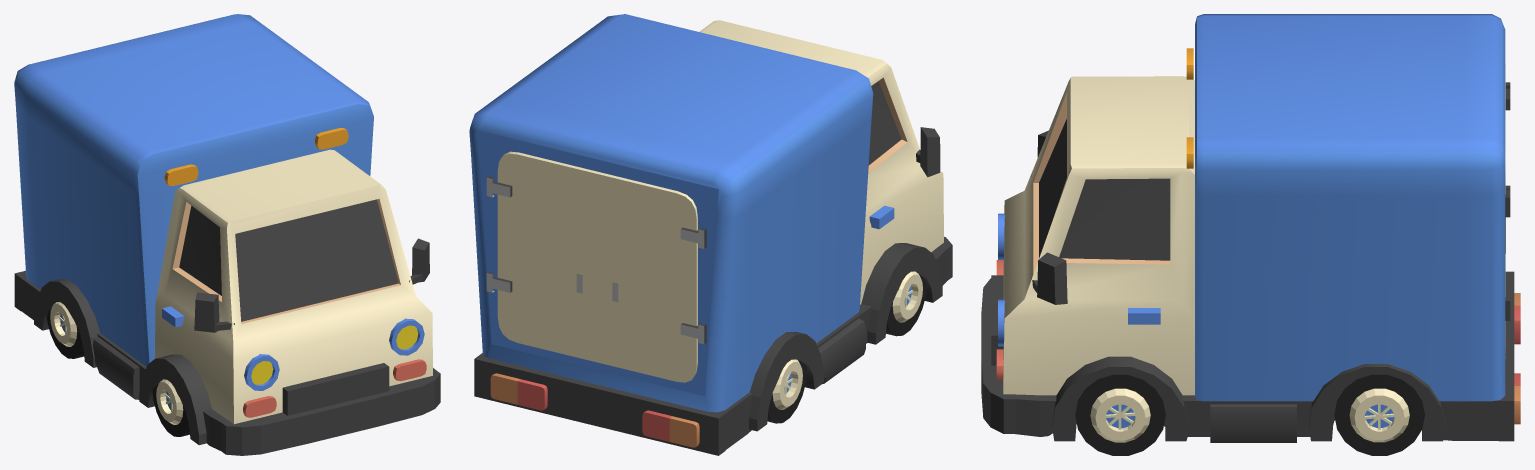
The model's file is Blue_Small_Truck.fbx.
3 views of the same model, side by side, from view 1: azimuth 30°, elevation 25°; view 2: azimuth 150°, elevation 25°; view 3: azimuth 270°, elevation 25° (orthographic). The views are drawn at different scales.
Parts seen in each view (by area): view 1: Blue_Small_Truck, Blue_Small_Truck_Wheel, Blue_Small_Truck_Wheel2; view 2: Blue_Small_Truck, Small_Left_Door001, Small_Right_Door001, Blue_Small_Truck_Wheel, Blue_Small_Truck_Wheel2; view 3: Blue_Small_Truck, Blue_Small_Truck_Wheel, Blue_Small_Truck_Wheel2.
Boxes of the visible parts, x1,y1,x2,y2 form: Blue_Small_Truck: [14, 14, 440, 455]; Blue_Small_Truck_Wheel: [152, 379, 189, 436]; Blue_Small_Truck_Wheel2: [47, 302, 84, 358]; Blue_Small_Truck: [469, 14, 952, 455]; Small_Left_Door001: [486, 151, 599, 362]; Small_Right_Door001: [597, 172, 706, 382]; Blue_Small_Truck_Wheel: [886, 271, 927, 336]; Blue_Small_Truck_Wheel2: [767, 359, 807, 423]; Blue_Small_Truck: [981, 14, 1520, 442]; Blue_Small_Truck_Wheel: [1075, 374, 1165, 455]; Blue_Small_Truck_Wheel2: [1334, 374, 1424, 455].
Bounding box in the file's own units: 218 × 220 × 347.
